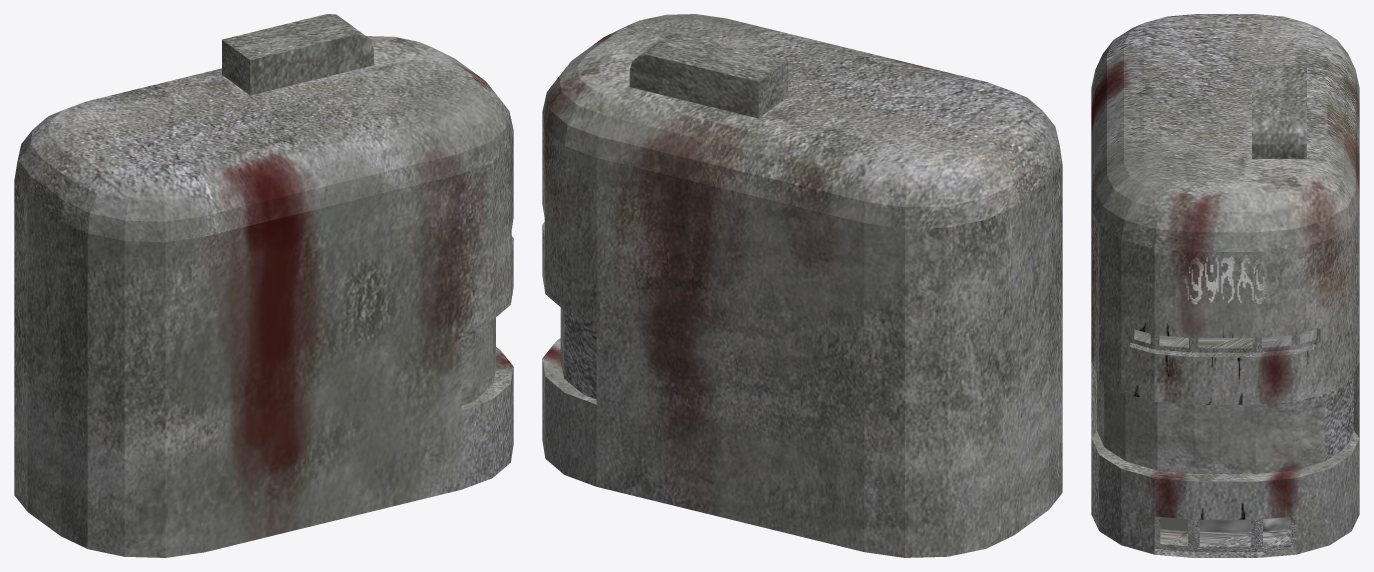
Rendered from Bild2.fbx.
3 renders of one model, left to right at view 1: azimuth 30°, elevation 25°; view 2: azimuth 150°, elevation 25°; view 3: azimuth 270°, elevation 25°, orthographic. The views are drawn at different scales.
Visible parts, largest first — view 1: Cube.004; view 2: Cube.004; view 3: Cube.004.
Boxes of the visible parts, x1,y1,x2,y2 form: Cube.004: (14, 14, 513, 557); Cube.004: (542, 14, 1062, 557); Cube.004: (1091, 14, 1359, 557).
Size of the model in its own units: 252 by 219 by 137.
